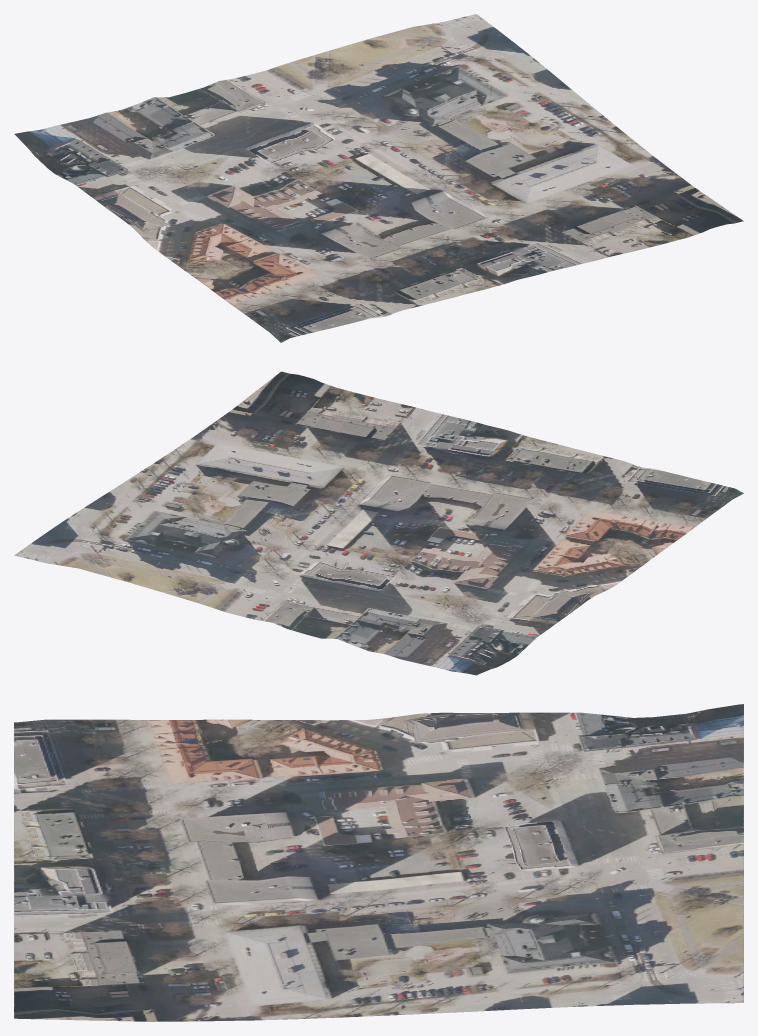
Rendered from CM_Terrain_24487592_6821227.fbx.
The picture shows the model from 3 angles, top to bottom: view 1: azimuth 30°, elevation 25°; view 2: azimuth 150°, elevation 25°; view 3: azimuth 270°, elevation 25°; orthographic projection. The views are drawn at different scales.
Visible parts, largest first — view 1: CM_Terrain_24487592_6821227_LOD0; view 2: CM_Terrain_24487592_6821227_LOD0; view 3: CM_Terrain_24487592_6821227_LOD0.
Boxes of the visible parts, x1,y1,x2,y2 form: CM_Terrain_24487592_6821227_LOD0: [14, 14, 743, 342]; CM_Terrain_24487592_6821227_LOD0: [14, 371, 743, 675]; CM_Terrain_24487592_6821227_LOD0: [14, 704, 743, 1021].
Size of what is drawn, in the model's own units: 205 by 10.92 by 205.
